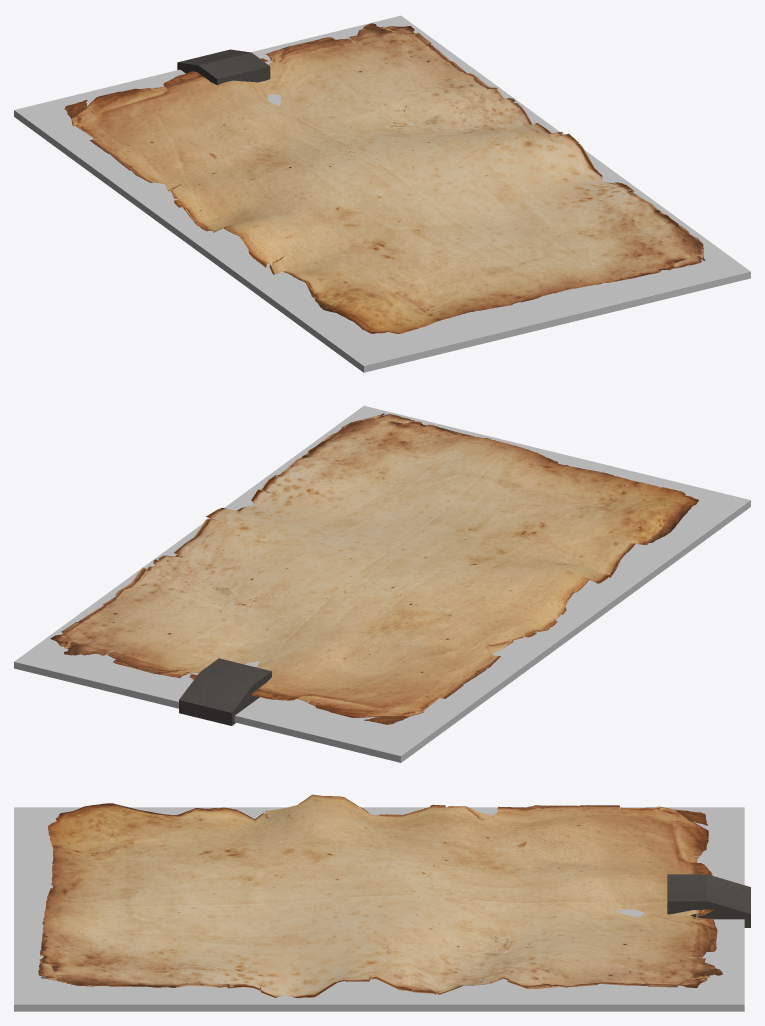
File: note.fbx
The picture shows the model from 3 angles, top to bottom: view 1: azimuth 30°, elevation 25°; view 2: azimuth 150°, elevation 25°; view 3: azimuth 270°, elevation 25°; orthographic projection. The views are drawn at different scales.
Parts seen in each view (by area): view 1: Cube; view 2: Cube; view 3: Cube.
Boxes of the visible parts, x1,y1,x2,y2 form: Cube: (14, 15, 750, 372); Cube: (14, 406, 750, 762); Cube: (14, 794, 750, 1011).
Bounding box in the file's own units: 21.89 × 1.84 × 34.55.
